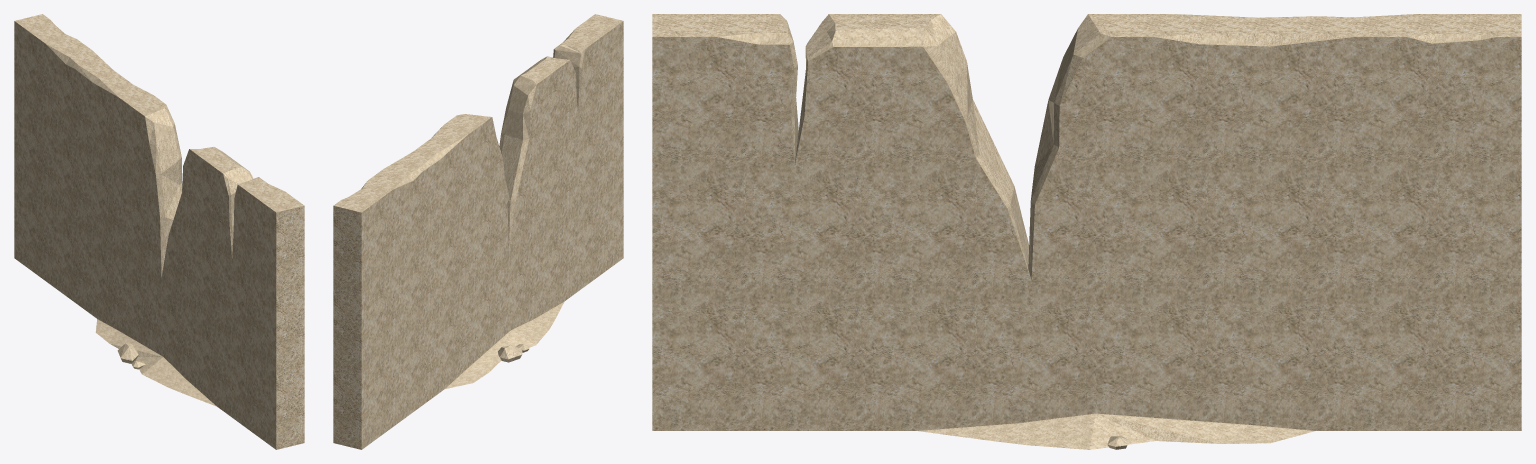
File: thm_tato_imprv_wall_cleft_s01_l0.fbx
3 renders of one model, left to right at view 1: azimuth 30°, elevation 25°; view 2: azimuth 150°, elevation 25°; view 3: azimuth 270°, elevation 25°, orthographic. The views are drawn at different scales.
Parts seen in each view (by area): view 1: mesh_node; view 2: mesh_node; view 3: mesh_node.
Boxes of the visible parts, <box> form: mesh_node: <box>14,14,304,449</box>; mesh_node: <box>333,14,623,449</box>; mesh_node: <box>652,14,1521,449</box>.
Size of the model in its own units: 1.41 by 4.02 by 8.
